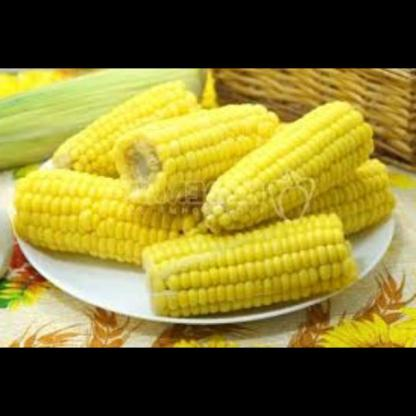corn: (130, 214, 364, 318), (204, 94, 378, 229), (113, 90, 287, 204), (7, 164, 209, 257), (34, 69, 203, 180), (272, 157, 407, 232)
